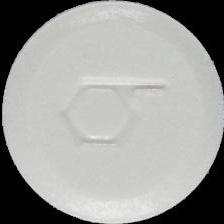21695-770: (0, 0, 224, 224)
